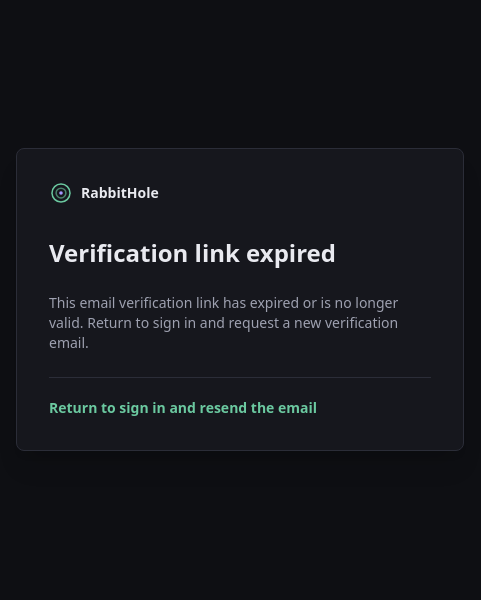
Test case: authentication pages › shows an expired-link message and offers resend from the recovery page
The width and height of the screenshot is (481, 600).
Expected: the heading "Verification link expired" is shown, top-left (49, 236), bottom-right (336, 268)
Click the link "Return to sign in and resend the email".
click(183, 407)  # box top-left (49, 398), bottom-right (317, 416)
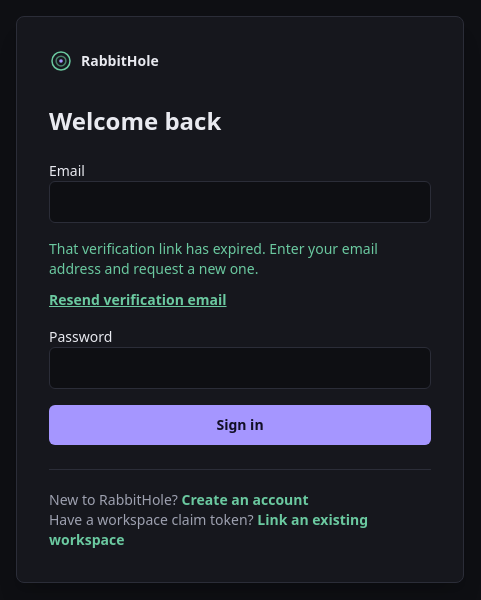
Result: the text "That verification link has expired" is shown at top-left (49, 238), bottom-right (378, 278)
Result: the button "Resend verification email" is shown at top-left (49, 290), bottom-right (226, 310)
